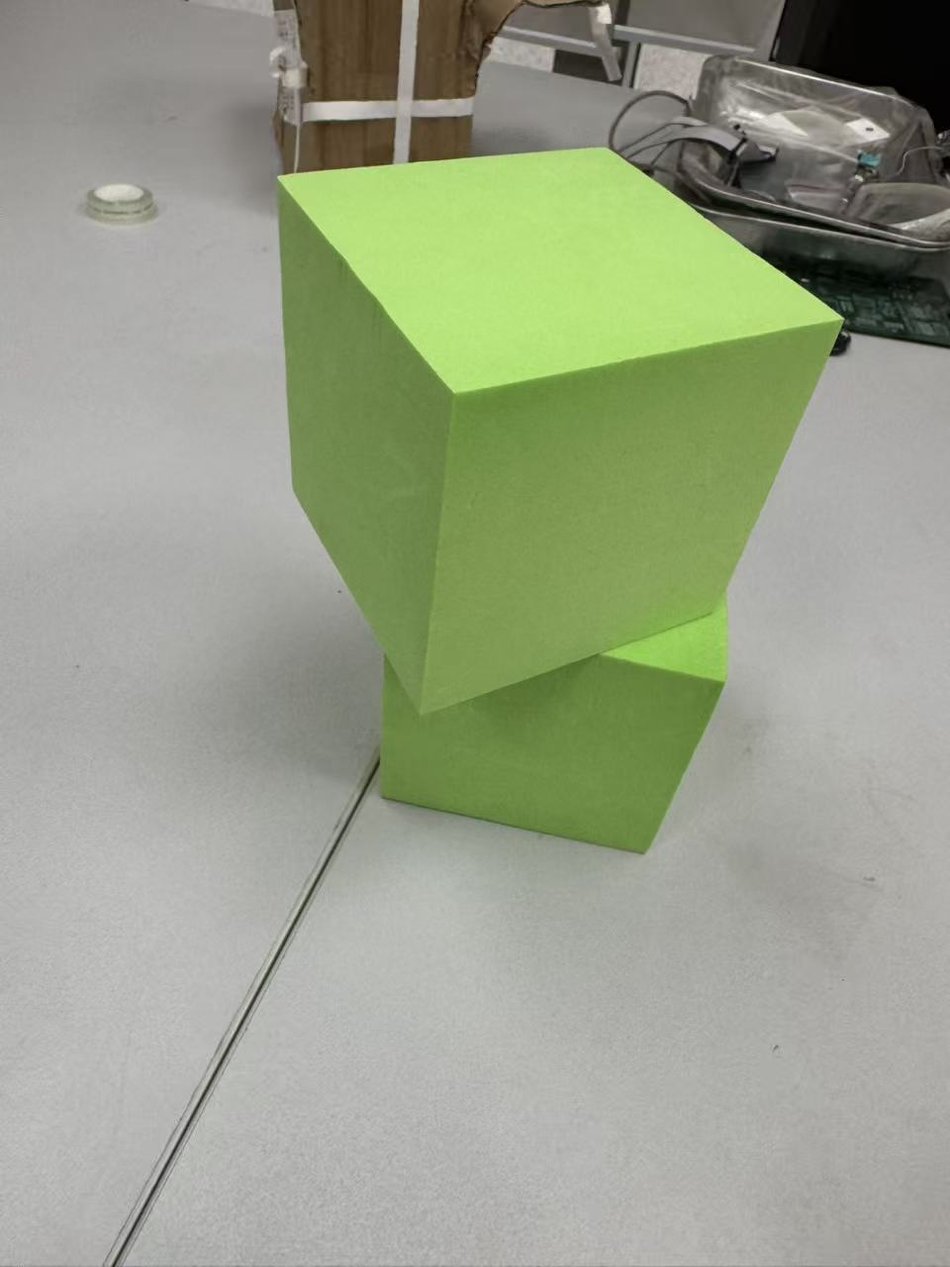green_small: (275, 143, 847, 723), (375, 533, 732, 853)
